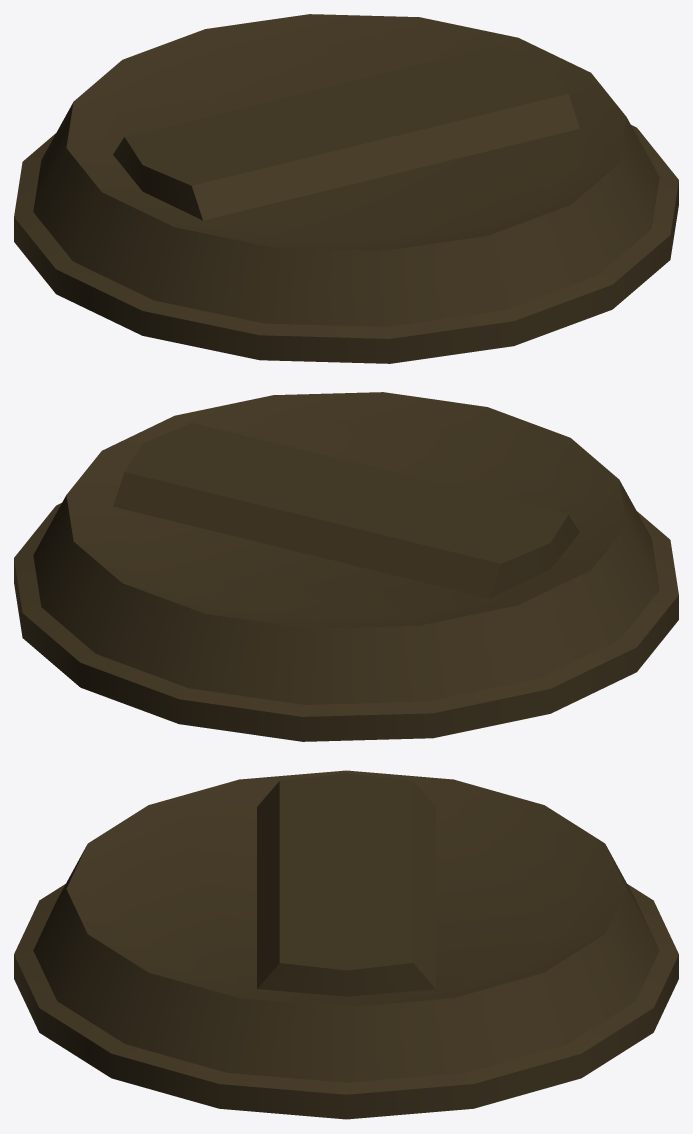
File: Vaso_Carton_04.fbx
3 renders of one model, top to bottom at view 1: azimuth 30°, elevation 25°; view 2: azimuth 150°, elevation 25°; view 3: azimuth 270°, elevation 25°, orthographic.
Parts seen in each view (by area): view 1: Vaso_Carton_04; view 2: Vaso_Carton_04; view 3: Vaso_Carton_04.
Boxes of the visible parts, box(x1,y1,x2,y2) form: Vaso_Carton_04: box(14, 14, 678, 363); Vaso_Carton_04: box(14, 392, 678, 741); Vaso_Carton_04: box(14, 770, 678, 1119).
Bounding box in the file's own units: 40.05 × 7.37 × 40.05.
